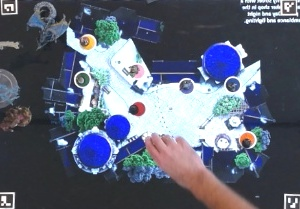blue: (223, 74, 244, 93)
green: (71, 67, 91, 88)
orange: (238, 130, 259, 149)
pink: (124, 62, 147, 80)
red: (127, 100, 149, 119)
violet: (179, 76, 197, 96)
yellow: (78, 32, 101, 52)
